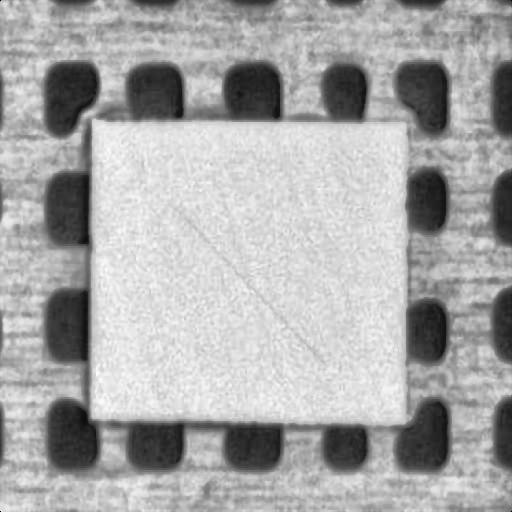DIE_CRACK: (224, 151, 430, 273)
